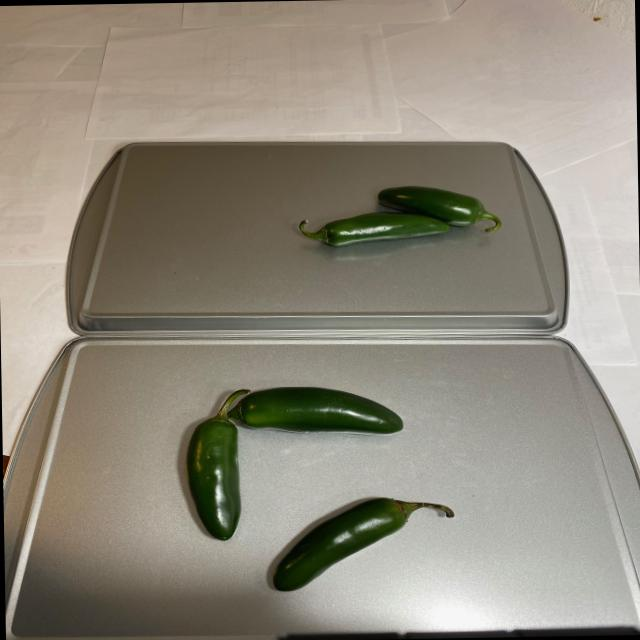chilli: (151, 380, 467, 599), (285, 180, 510, 258)
